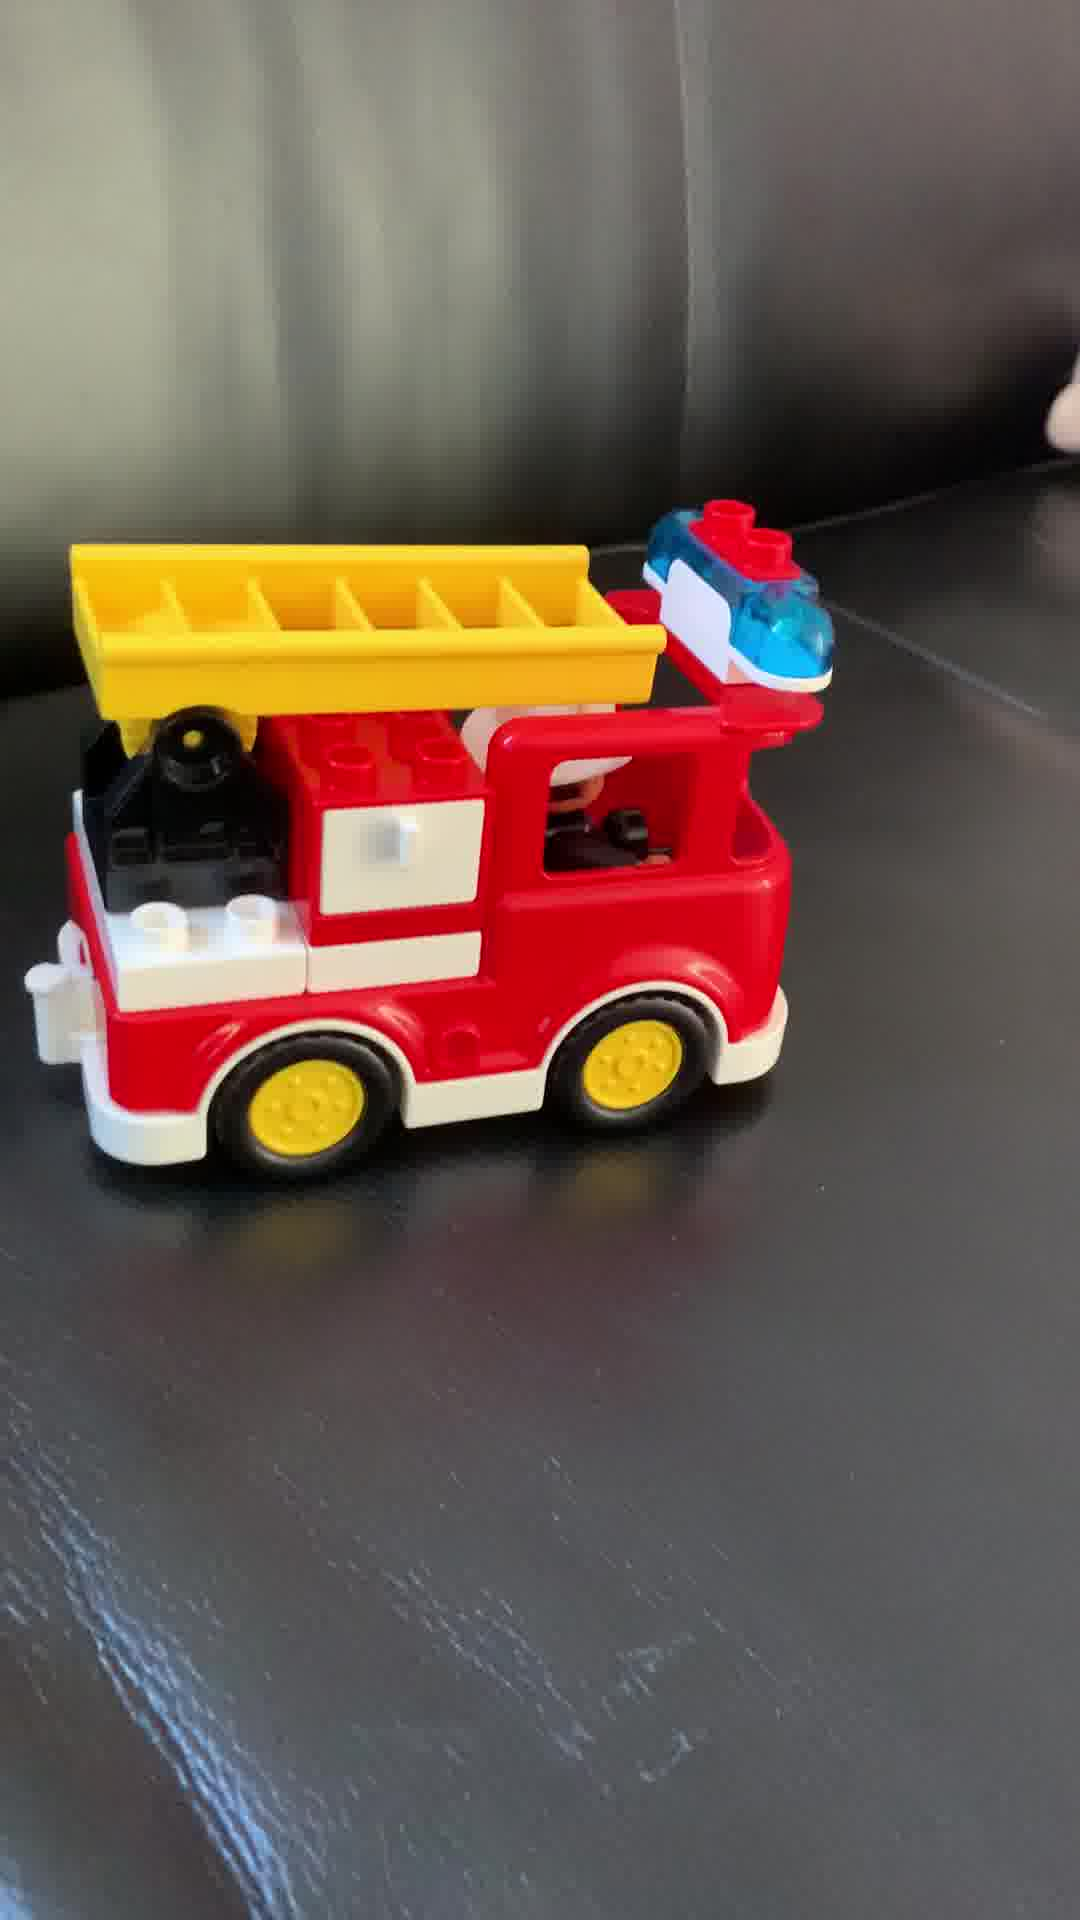lego fire truck: (40, 491, 844, 1184)
